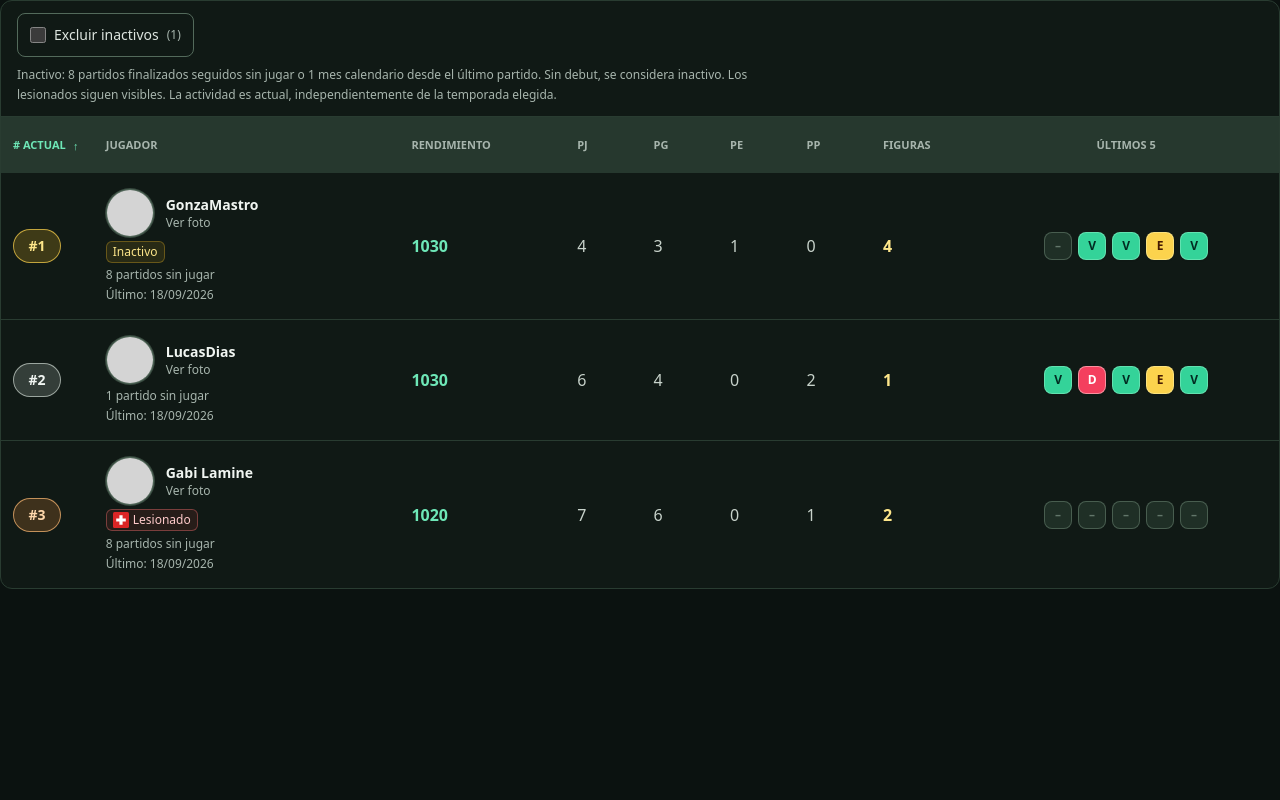
Test: RankingTableQuery › excluye inactivos sin cambiar los puestos y mantiene lesionados en ambas vistas
Click the checkbox labelled "Excluir inactivos".
click(38, 35)  # box [30,27,46,43]
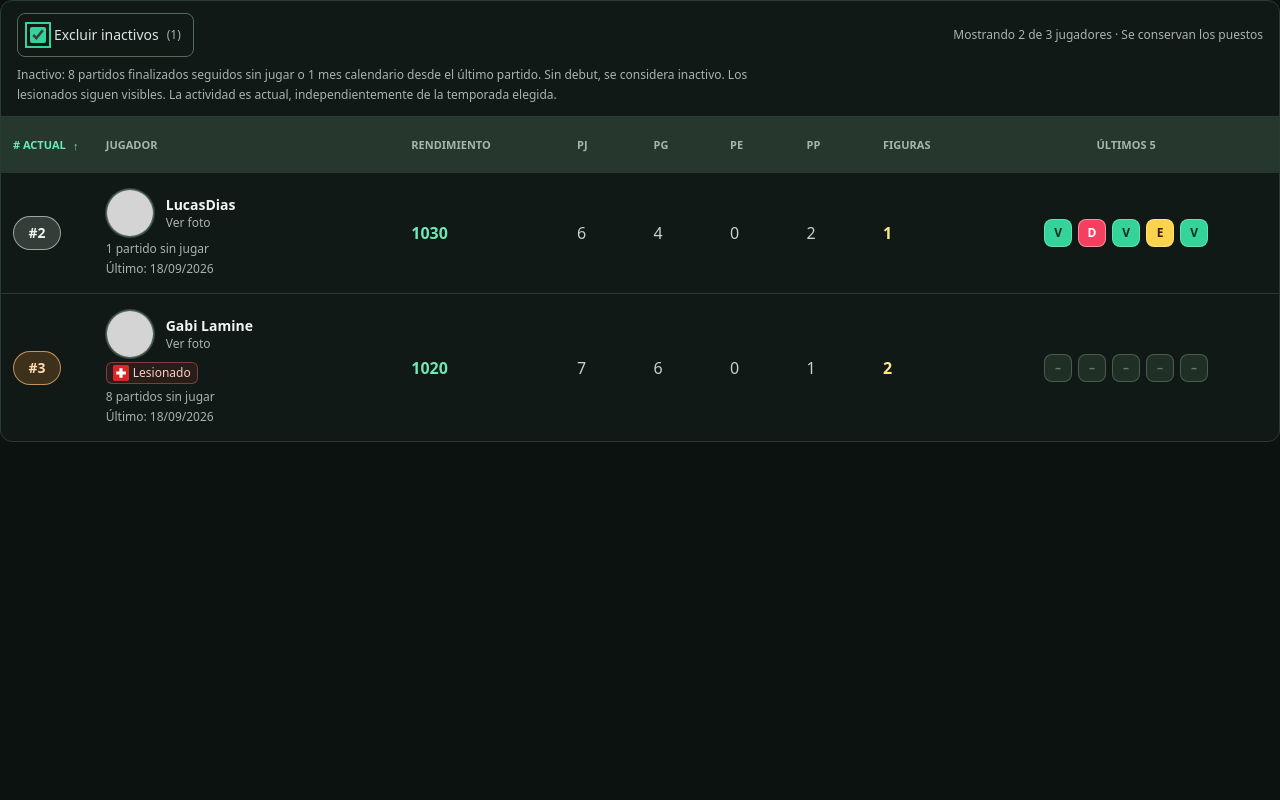
Expected: the row that starts with "LucasDias" shows "#2", [1,173,1279,294]
Expected: the button "GonzaMastro" is gone
Expected: the text "Mostrando 2 de 3 jugadores · Se conservan los puestos" is shown, [953,27,1263,43]
Click the button "PG".
click(669, 145)  # box [654,129,684,161]
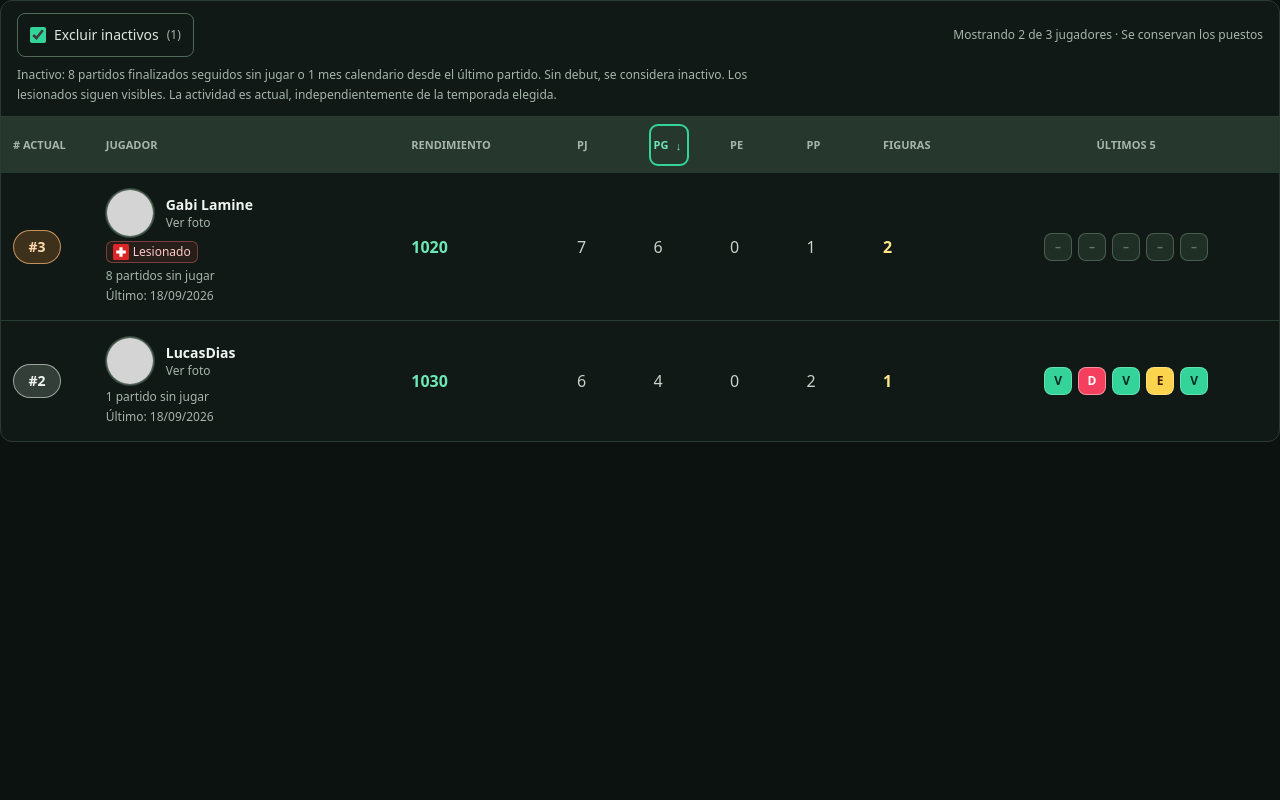
Expected: the row that starts with "Gabi Lamine" is shown, [106,189,253,237]
Expected: the row that starts with "Gabi Lamine" shows "#3", [1,173,1279,320]
Click the checkbox labelled "Excluir inactivos".
click(38, 35)  # box [30,27,46,43]
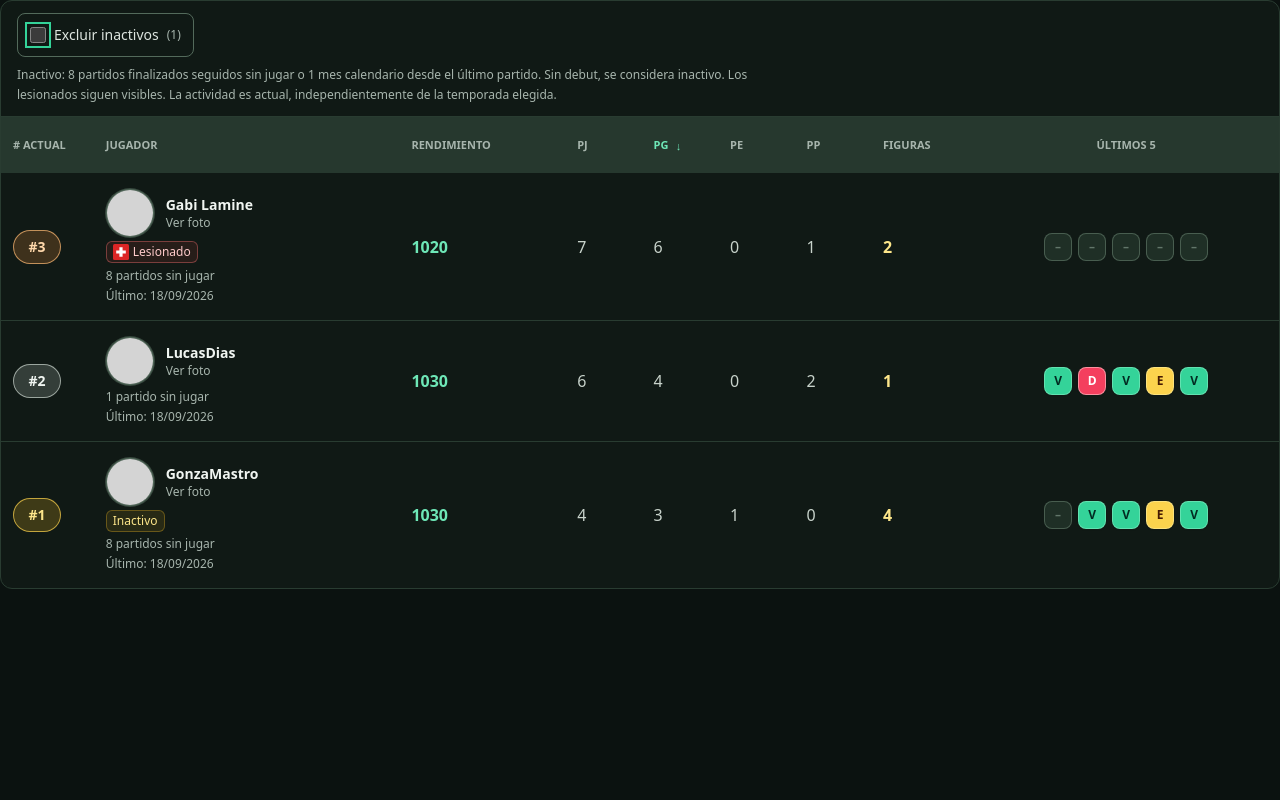
Expected: the text "GonzaMastro" is shown, [166,464,258,484]
